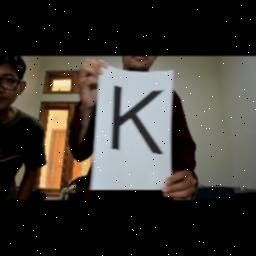k: (104, 83, 174, 167)
